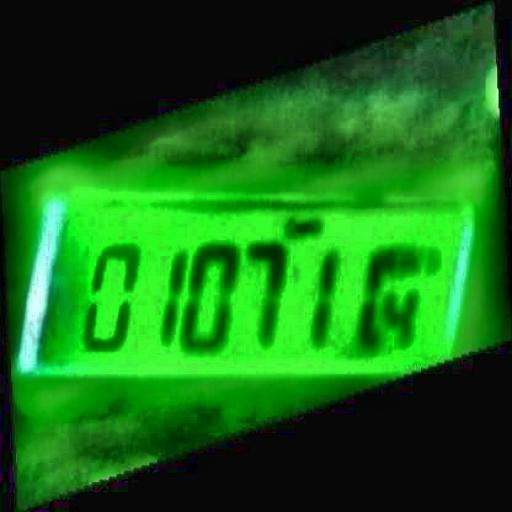DISPLAY_REGION: (6, 173, 476, 403)
SERIAL_REGION: (77, 242, 439, 358)
